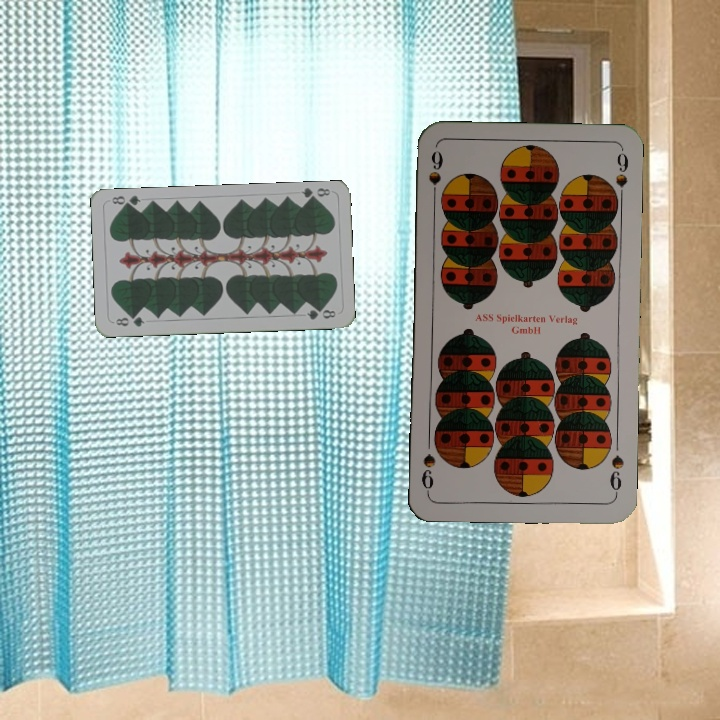G8: (297, 184, 332, 204), (112, 312, 147, 330)
S9: (424, 146, 445, 205), (606, 451, 626, 498)
